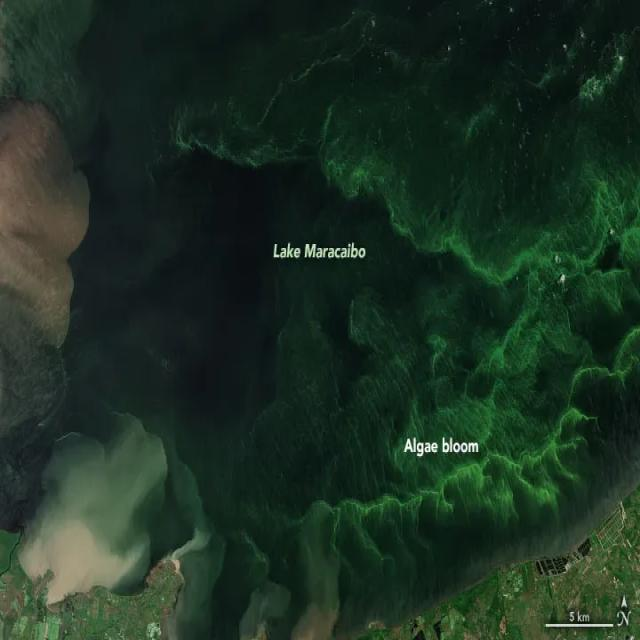algal: (305, 44, 631, 375), (216, 199, 455, 638), (335, 371, 588, 529), (175, 38, 380, 163), (0, 0, 94, 135), (409, 79, 498, 147), (473, 382, 530, 430)
